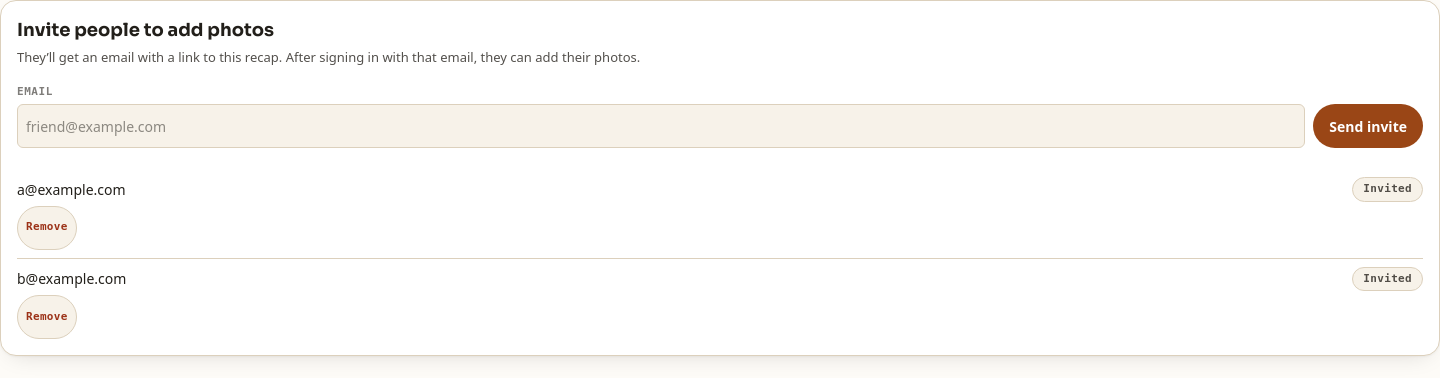
Test case: InvitePeople › focus management › removing the last of two pending invites moves focus to the remaining row’s Remove button
Click the button with aria-label "Remove invite to b@example.com" at [47, 317], box [17,295,77,339]
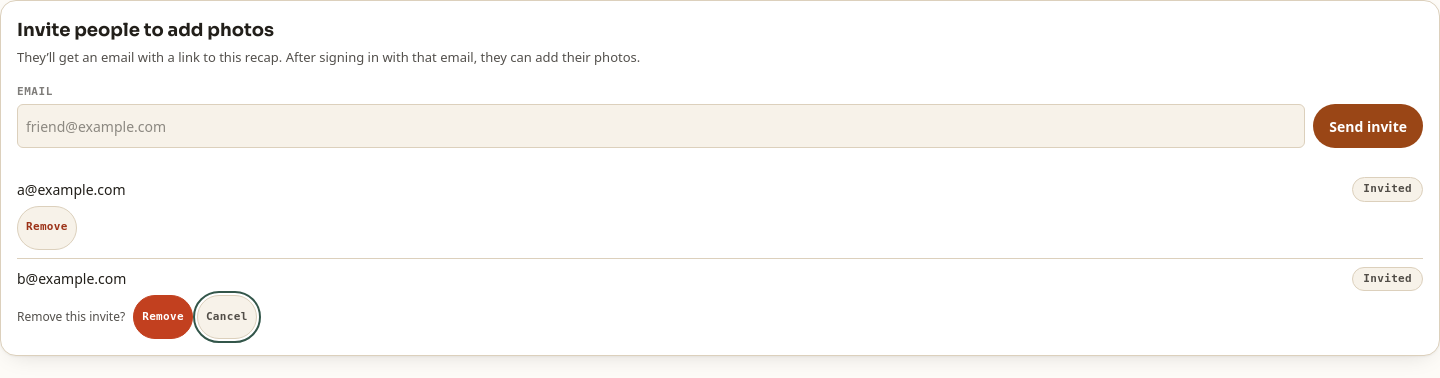
Click the button "Remove" next to "Remove this invite?" at [163, 317], box [133,295,193,339]
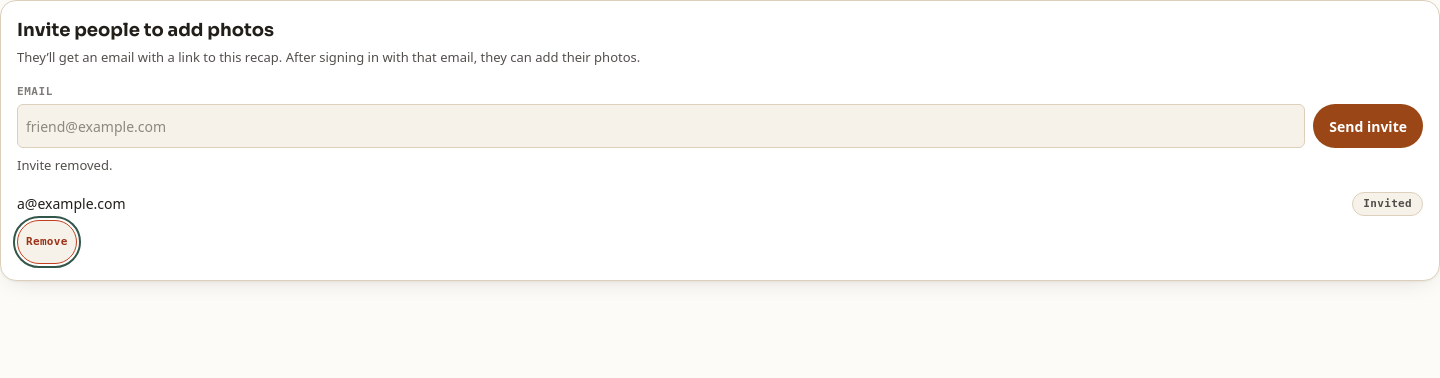
Result: the text "b@example.com" is gone
